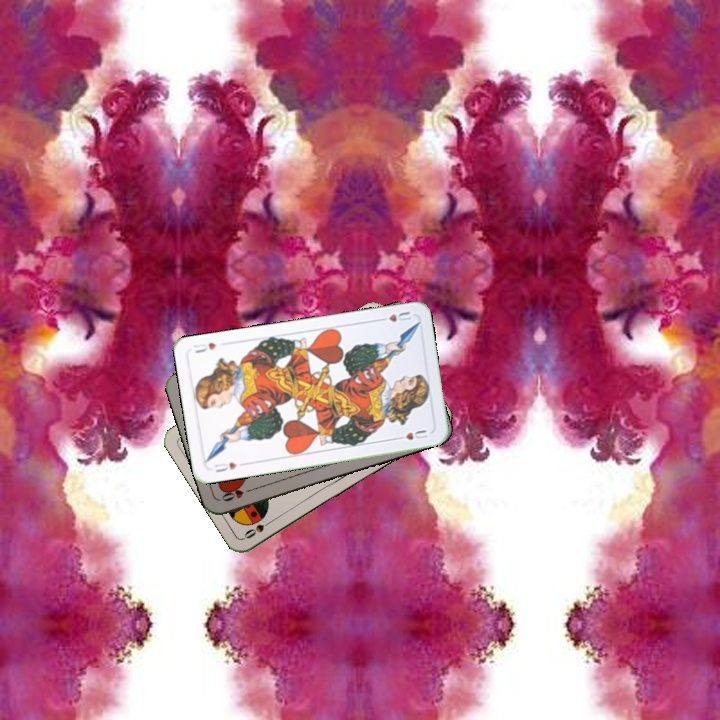HO: (217, 483, 257, 504)
HU: (374, 307, 415, 325), (210, 458, 240, 475)
SO: (240, 514, 277, 541)
